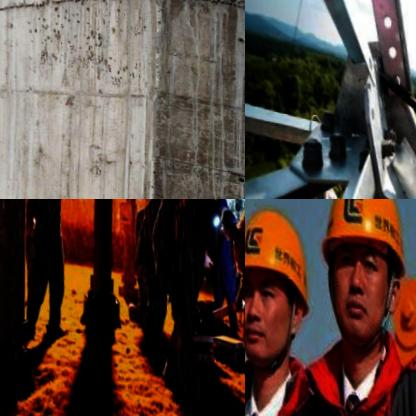helmet: (293, 199, 416, 377), (245, 199, 327, 394), (215, 203, 236, 236)
